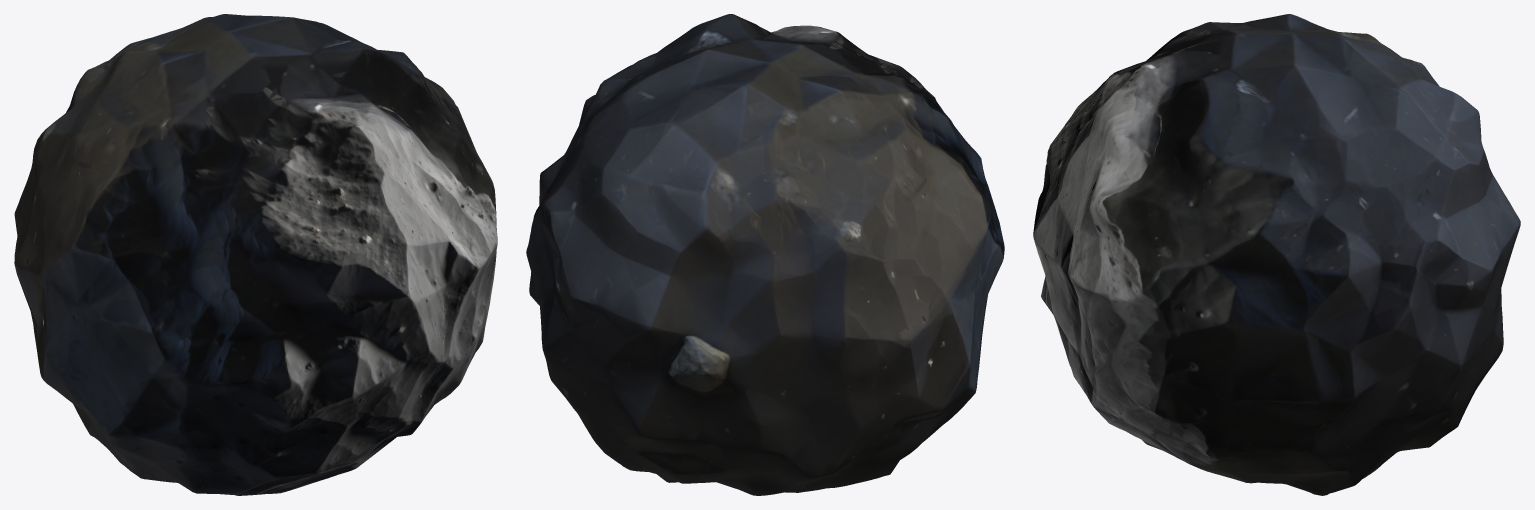
The model's file is asteroid3.glb.
The picture shows the model from 3 angles, left to right: view 1: azimuth 30°, elevation 25°; view 2: azimuth 150°, elevation 25°; view 3: azimuth 270°, elevation 25°; orthographic projection. The views are drawn at different scales.
Size of the model in its own units: 1.95 by 1.91 by 1.99.
Materials: 1 (1 with a texture image).
